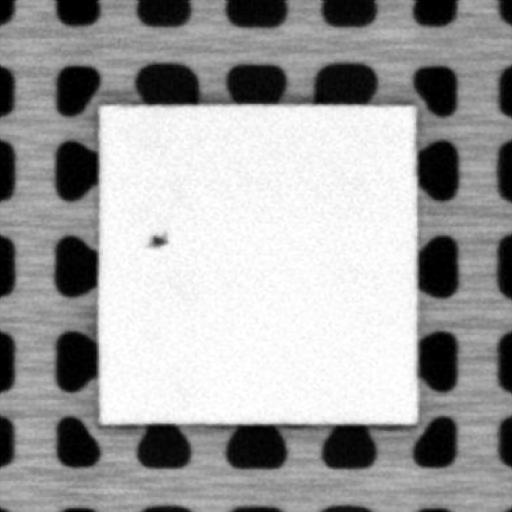DIE_INK: (149, 230, 165, 247)
